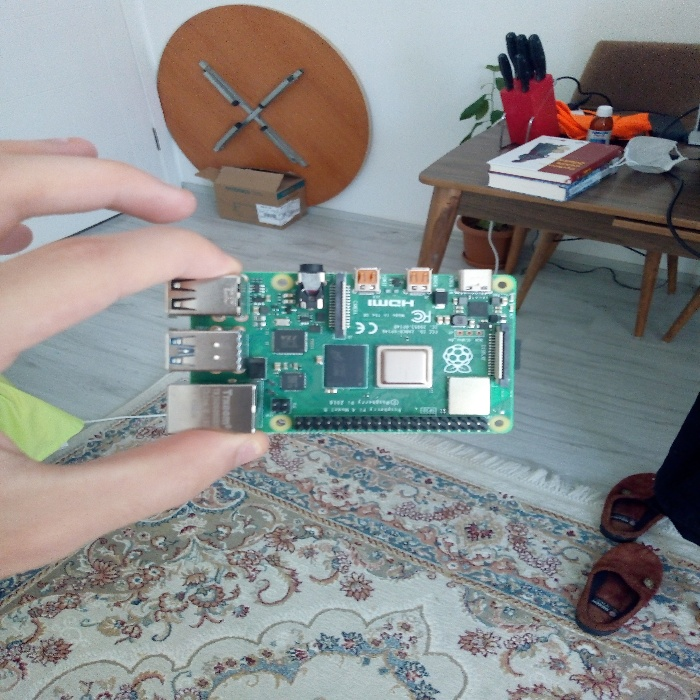raspberry: (136, 259, 526, 441)
